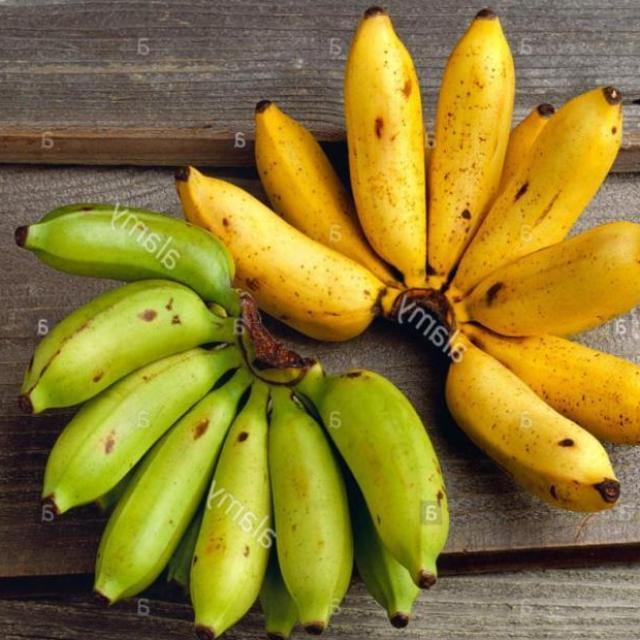Banana: (177, 7, 640, 514), (23, 199, 450, 635)
